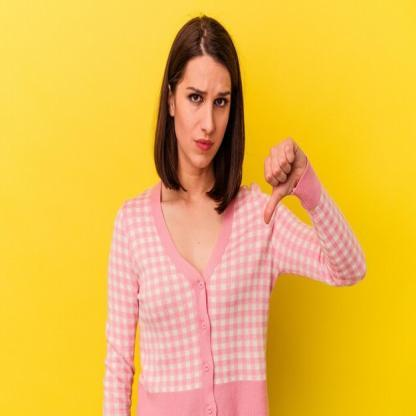thumb_down: (259, 133, 306, 225)
